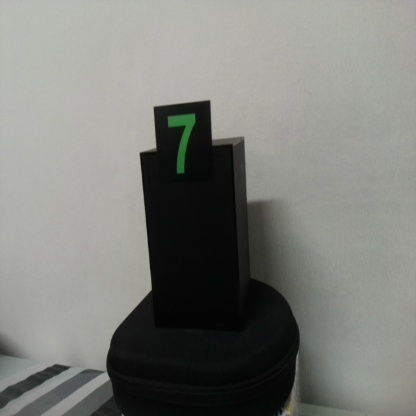id_7: (153, 105, 213, 197)
